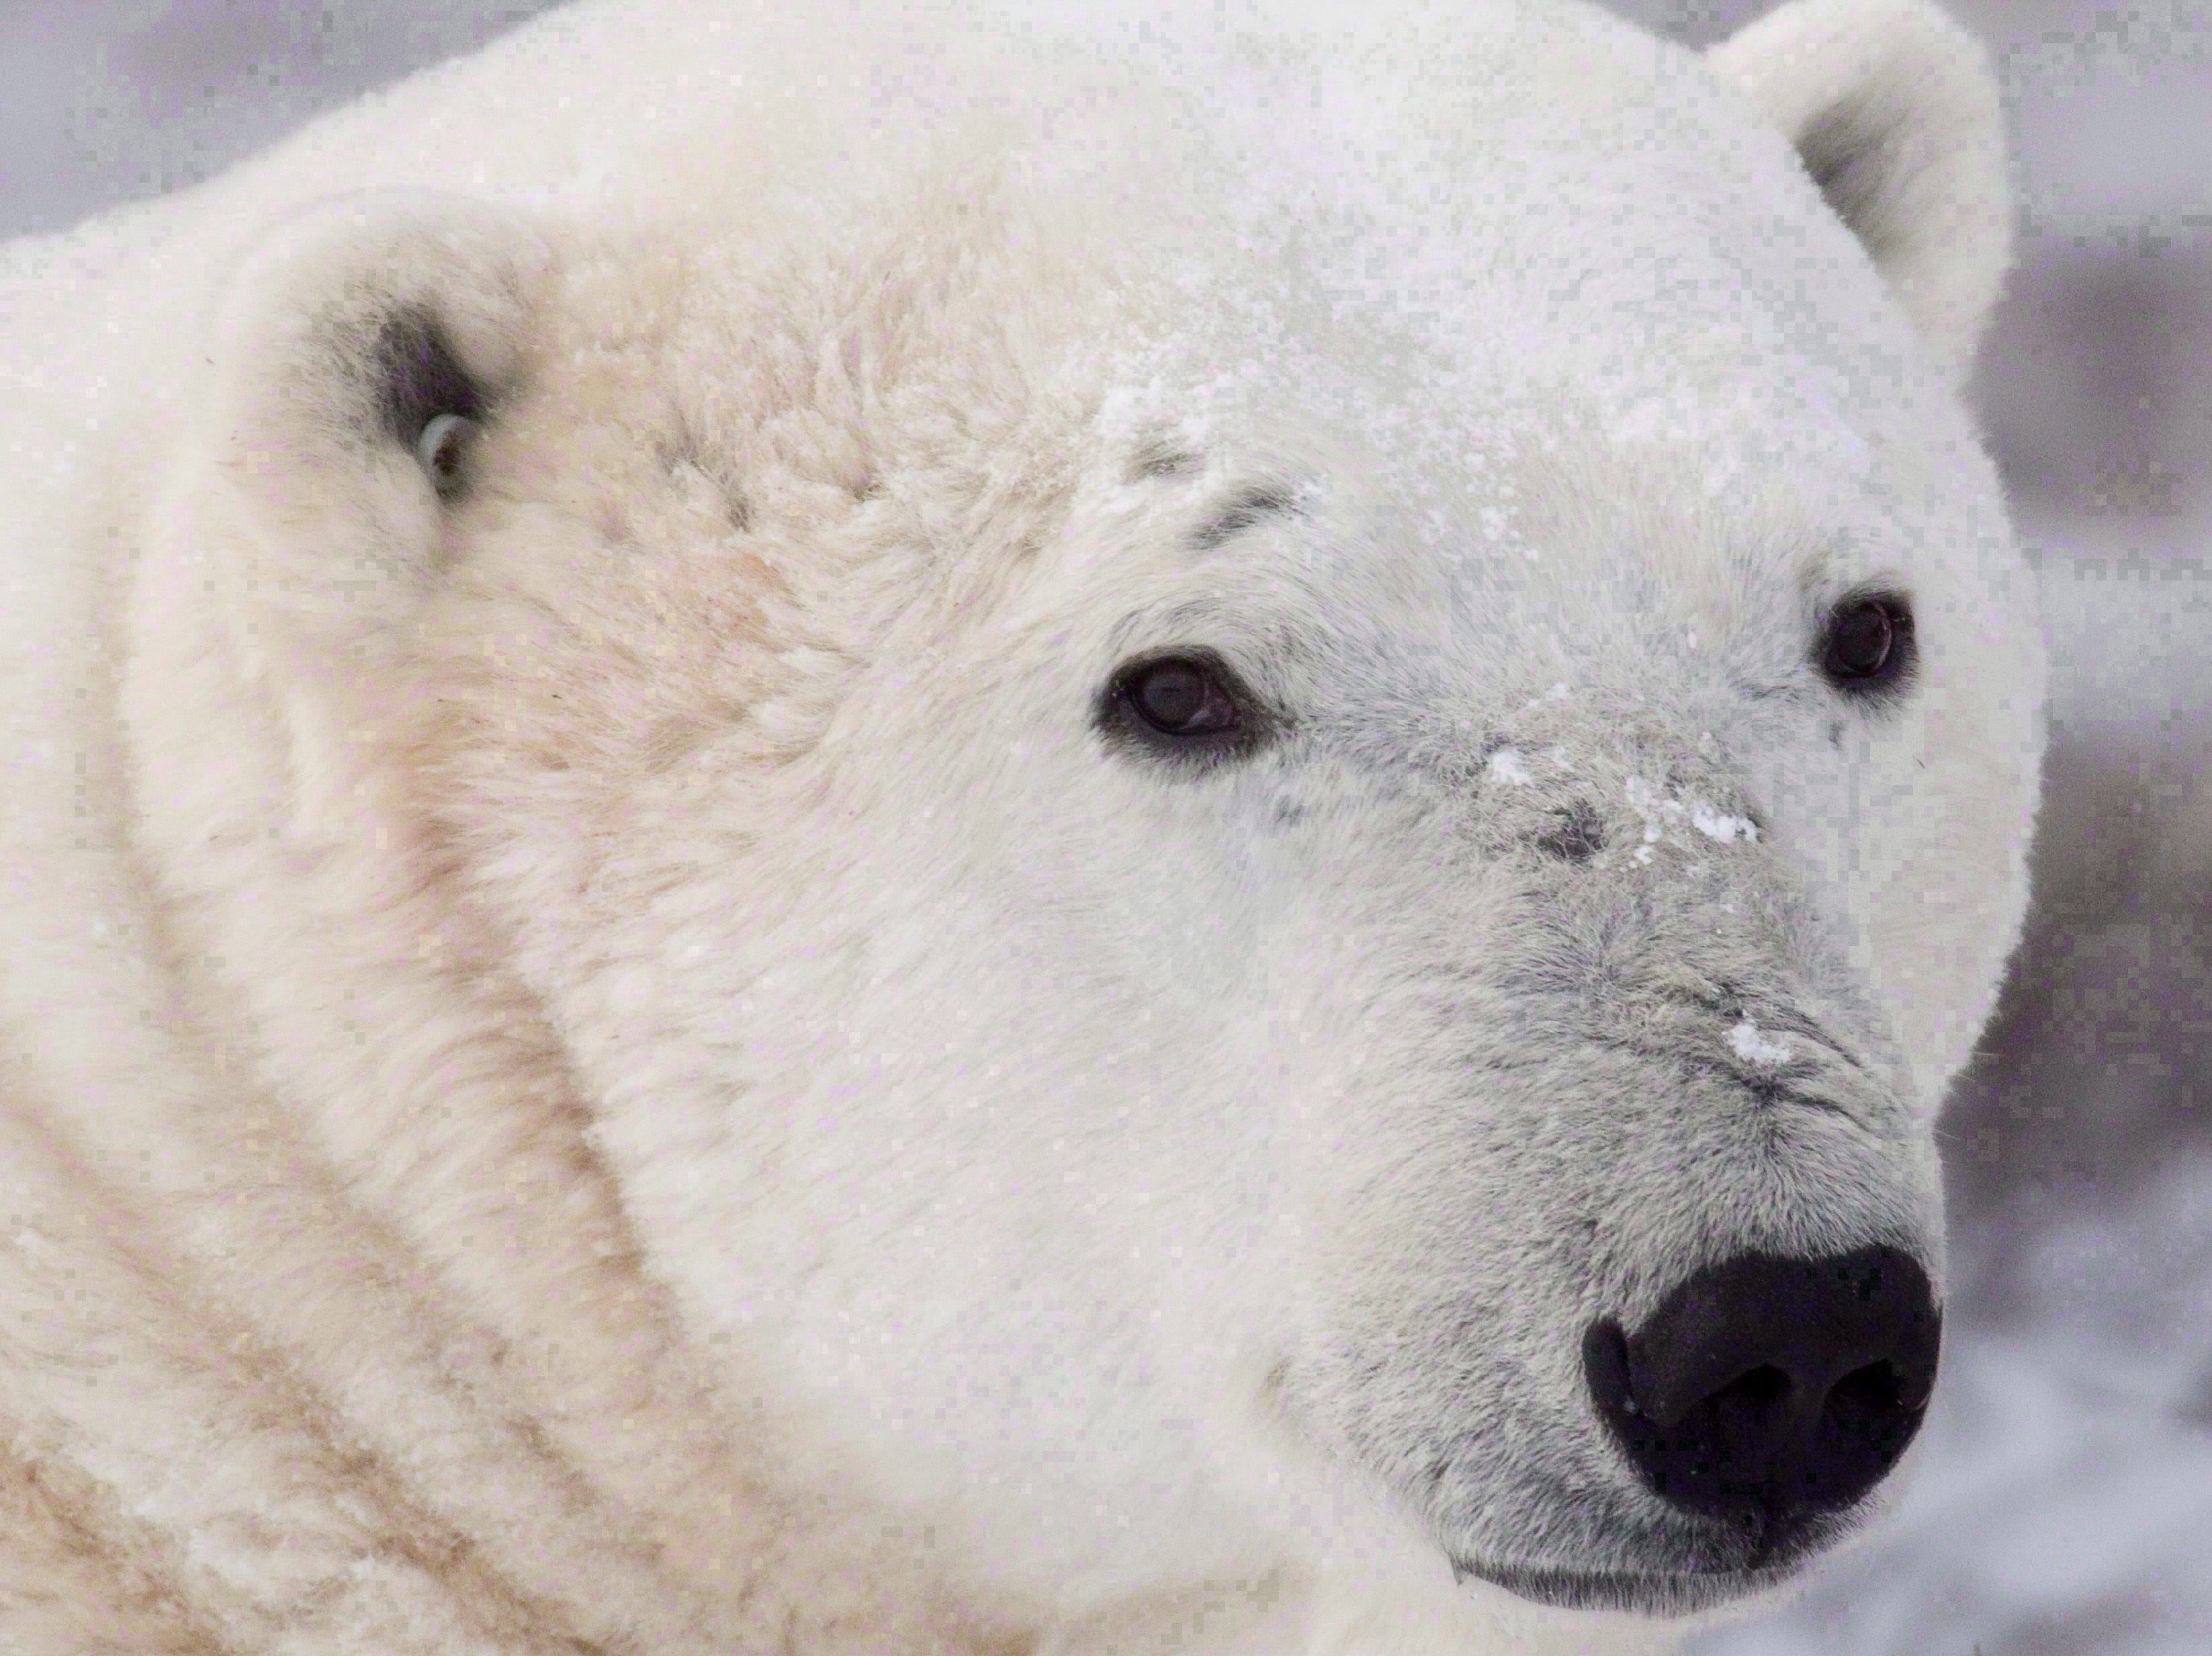Polar Bear: (30, 9, 2212, 1646)
